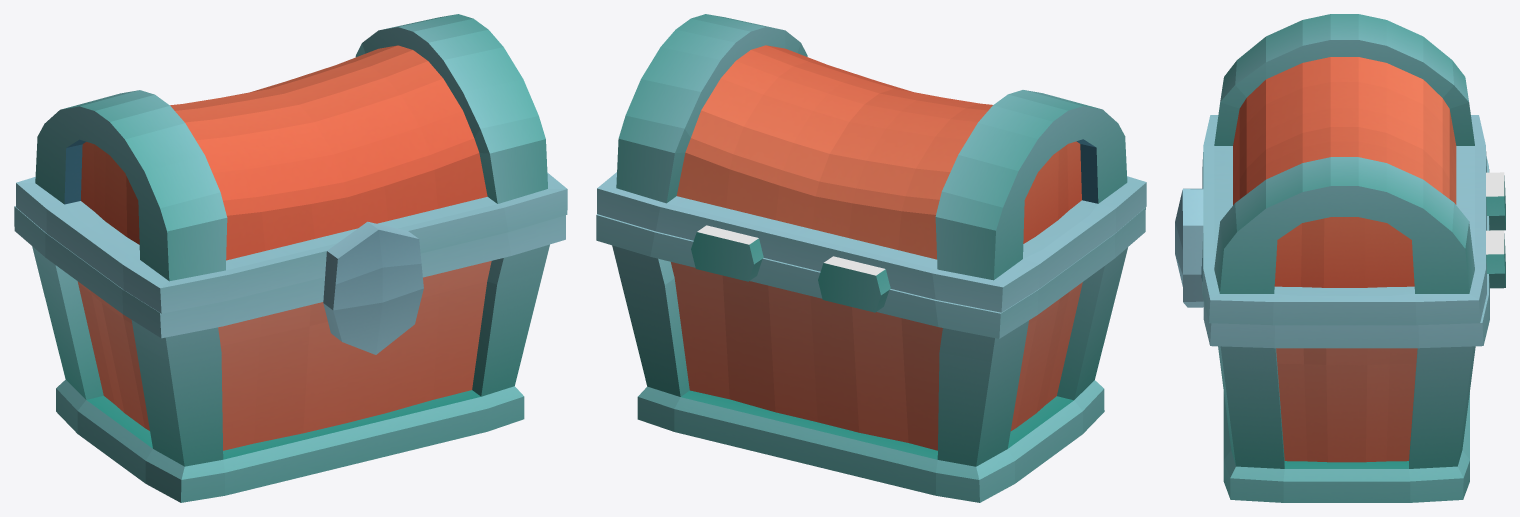
The model's file is chest.glb.
3 renders of one model, left to right at view 1: azimuth 30°, elevation 25°; view 2: azimuth 150°, elevation 25°; view 3: azimuth 270°, elevation 25°, orthographic. The views are drawn at different scales.
Visible parts, largest first — view 1: chest_top, chest_bottom; view 2: chest_top, chest_bottom; view 3: chest_top, chest_bottom.
Part boxes in pixels (left/top/right/bottom): chest_top: left=16, top=14, right=567, bottom=354; chest_bottom: left=14, top=206, right=565, bottom=502; chest_top: left=597, top=14, right=1146, bottom=312; chest_bottom: left=596, top=207, right=1145, bottom=502; chest_top: left=1175, top=14, right=1505, bottom=325; chest_bottom: left=1203, top=156, right=1489, bottom=502.
Bounding box in the file's own units: 3.52 × 2.82 × 2.61.
1 material, 1 textured.
